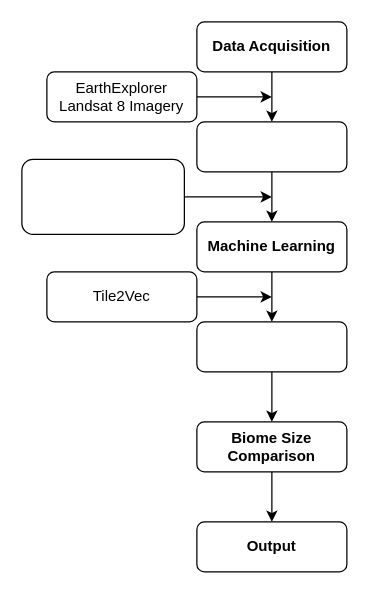
Image size: 369x594. Some labels were removed from this diagram. The shapes that lost their labels are listed below. From the top down, each one's box as (x1, y1, x2, y2) in pixels, then its label:
(196, 121, 347, 172): Image Preparation
(21, 158, 184, 234): Dynamic Range increased, Channels Merged
(196, 321, 347, 372): Biome Classification
